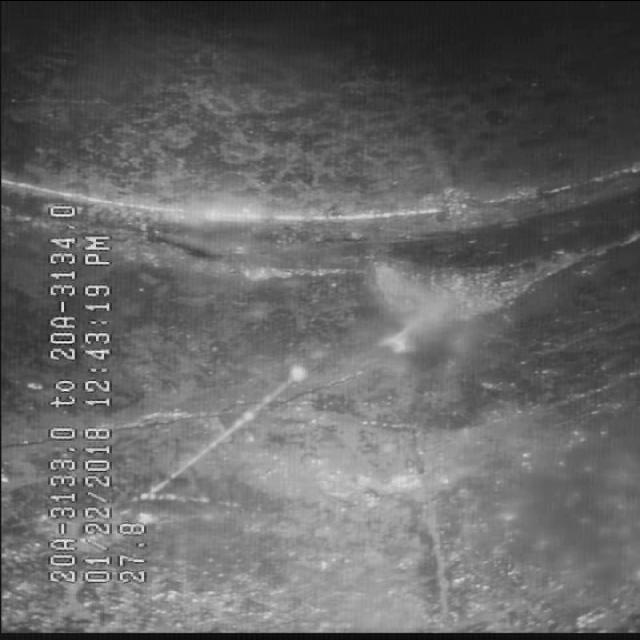Crack: (150, 327, 604, 600)
